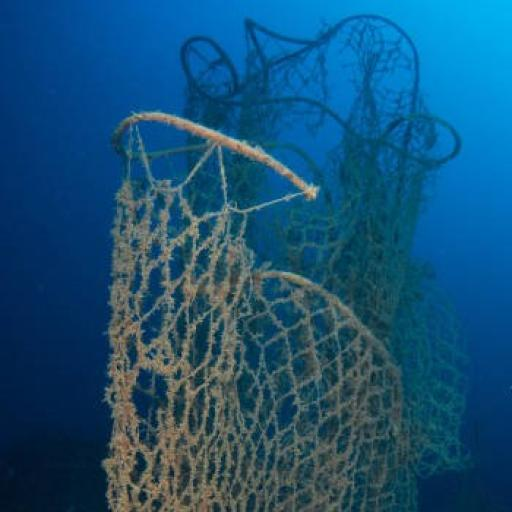net: (108, 13, 467, 512)
